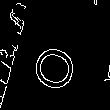O_E: (32, 41, 87, 98)
